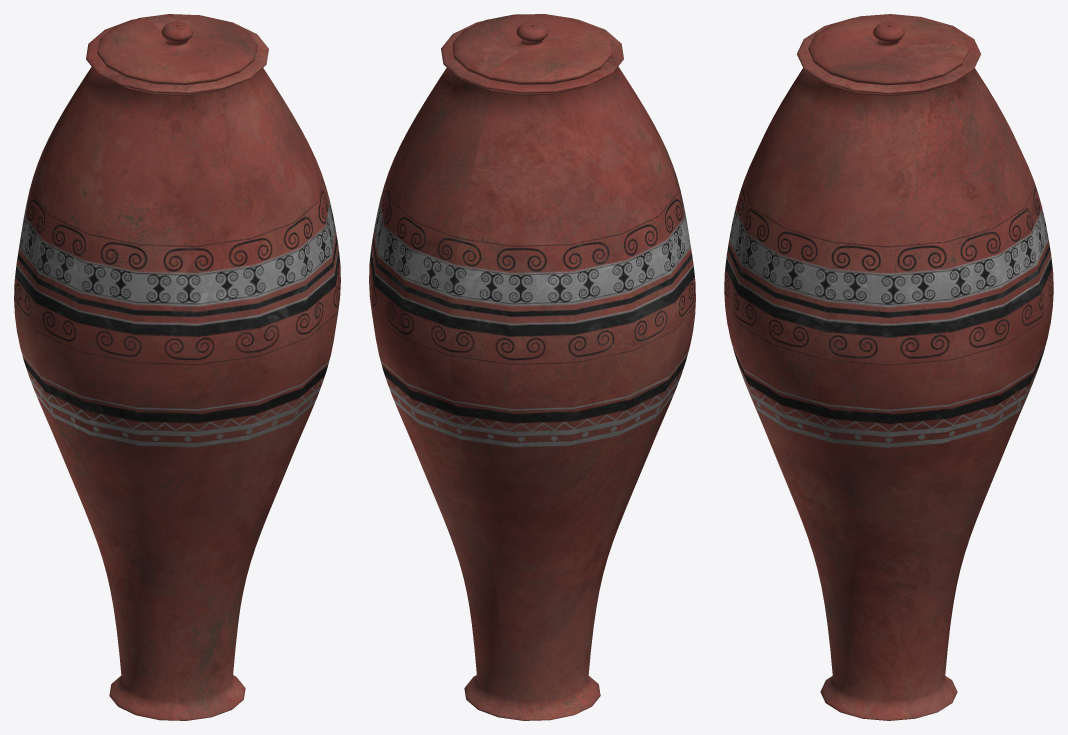
File: market_pot.glb
3 views of the same model, side by side, from view 1: azimuth 30°, elevation 25°; view 2: azimuth 150°, elevation 25°; view 3: azimuth 270°, elevation 25° (orthographic).
Visible parts, largest first — view 1: BezierCurve.003; view 2: BezierCurve.003; view 3: BezierCurve.003.
Part boxes in pixels (left/top/right/bottom): BezierCurve.003: left=14, top=14, right=340, bottom=720; BezierCurve.003: left=369, top=14, right=695, bottom=720; BezierCurve.003: left=724, top=14, right=1053, bottom=720.
Size of the model in its own units: 98.92 by 221 by 98.92.
1 material, 1 textured.
